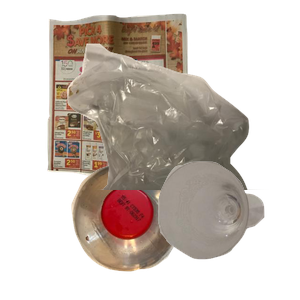glass: (156, 159, 300, 300)
paper: (44, 11, 229, 181)
plastic: (69, 161, 245, 300)
trash: (65, 41, 300, 221)
